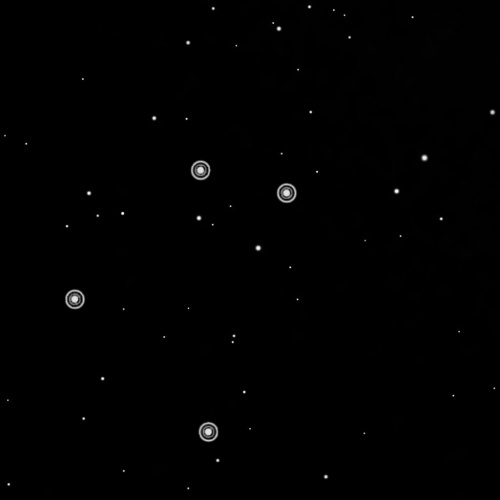coma_berenices: (58, 155, 312, 450)
